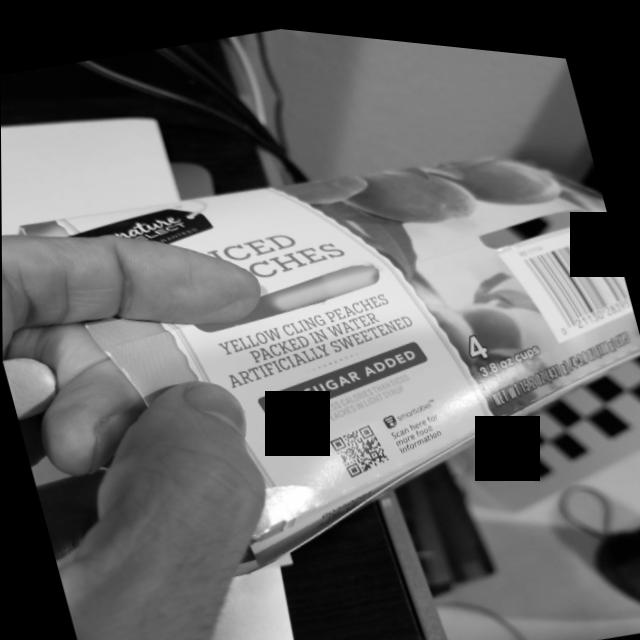QR_CODE: (312, 397, 401, 487)
